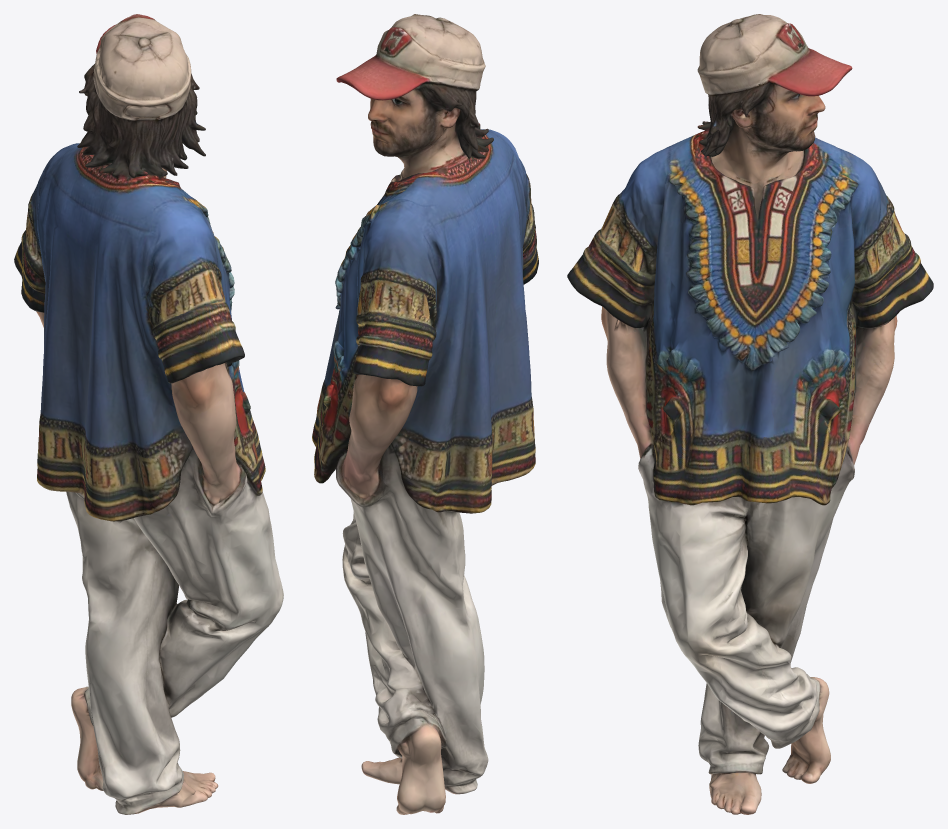
The model's file is iver-06.glb.
The picture shows the model from 3 angles, left to right: view 1: azimuth 30°, elevation 25°; view 2: azimuth 150°, elevation 25°; view 3: azimuth 270°, elevation 25°; orthographic projection.
Visible parts, largest first — view 1: tripo_node_bfc42b92-7fd0-4563-8cd1-1445bc0de266; view 2: tripo_node_bfc42b92-7fd0-4563-8cd1-1445bc0de266; view 3: tripo_node_bfc42b92-7fd0-4563-8cd1-1445bc0de266.
Part boxes in pixels (box(x1,y1,x2,y2)): tripo_node_bfc42b92-7fd0-4563-8cd1-1445bc0de266: box(14, 14, 283, 814); tripo_node_bfc42b92-7fd0-4563-8cd1-1445bc0de266: box(312, 14, 538, 814); tripo_node_bfc42b92-7fd0-4563-8cd1-1445bc0de266: box(567, 14, 933, 814).
Size of the model in its own units: 0.2607 by 1 by 0.433.
Materials: 1 (1 with a texture image).
